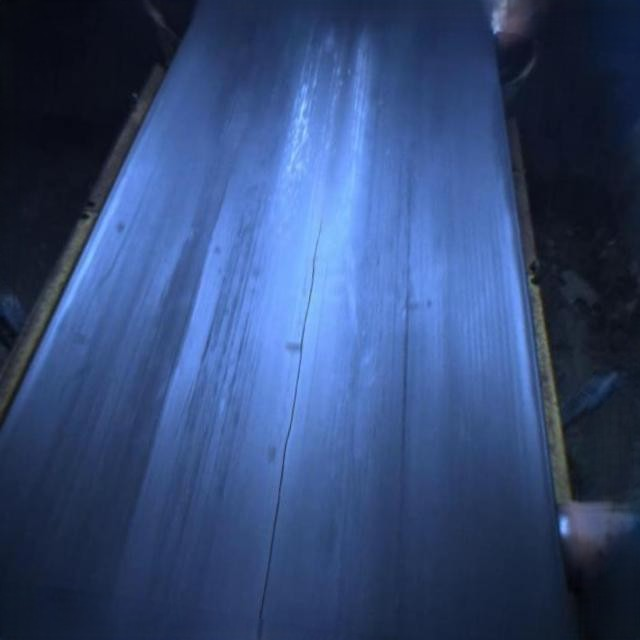Tear: (246, 206, 328, 639)
